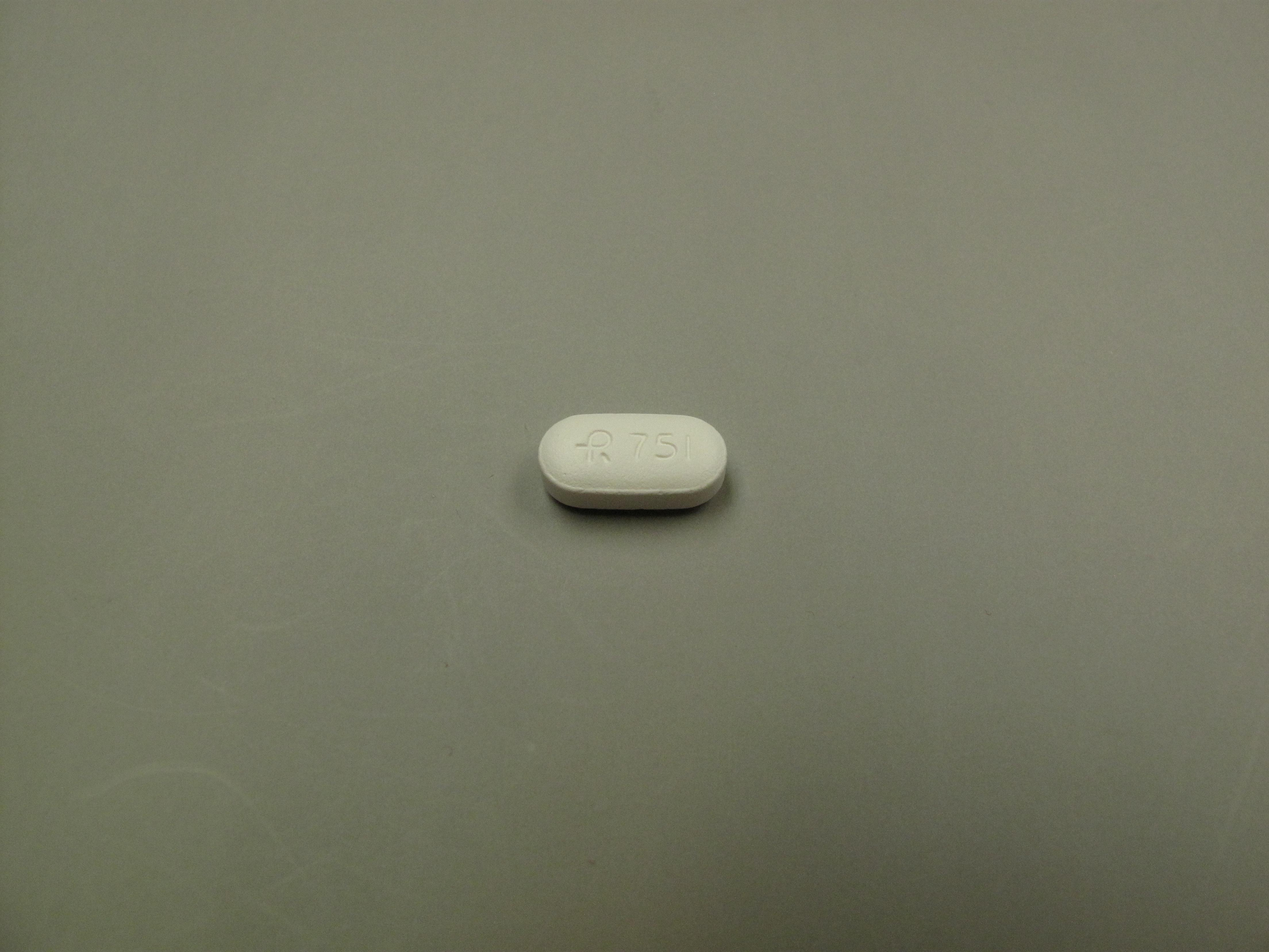Pill: (532, 405, 734, 519)
